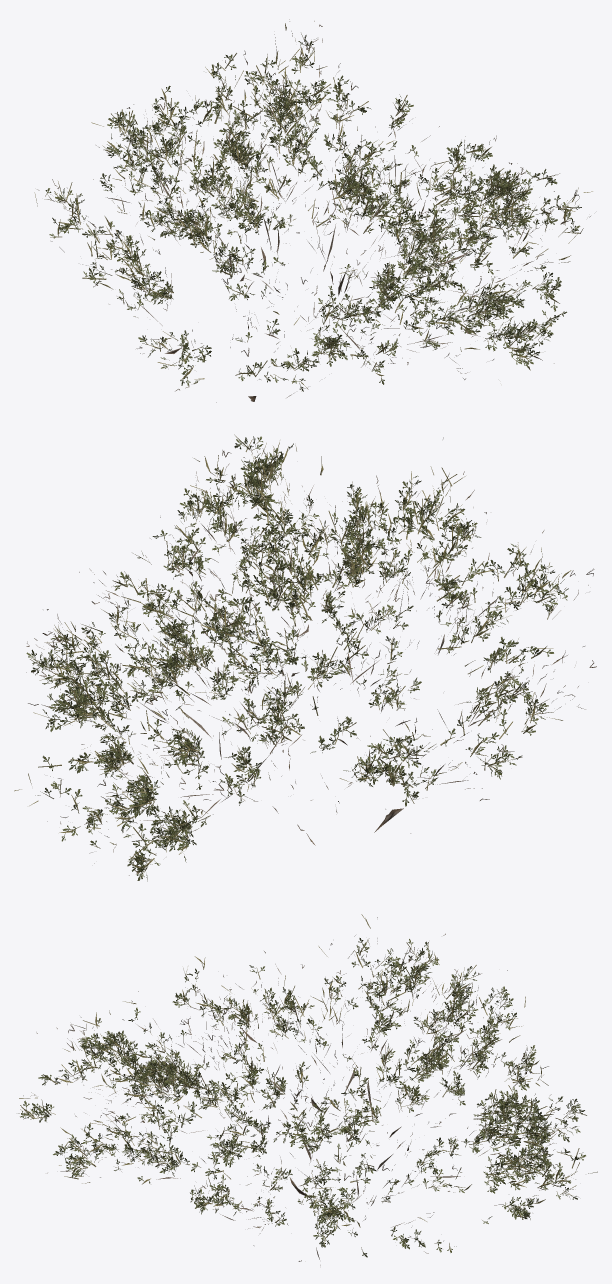
File: tree_searsia_burchellii_mature.glb
3 views of the same model, one above another, from view 1: azimuth 30°, elevation 25°; view 2: azimuth 150°, elevation 25°; view 3: azimuth 270°, elevation 25° (orthographic). The views are drawn at different scales.
Parts seen in each view (by area): view 1: tree_searsia_burchellii_mature; view 2: tree_searsia_burchellii_mature; view 3: tree_searsia_burchellii_mature.
Part boxes in pixels (bbox=[...]): tree_searsia_burchellii_mature: bbox=[34, 19, 592, 402]; tree_searsia_burchellii_mature: bbox=[14, 434, 596, 881]; tree_searsia_burchellii_mature: bbox=[18, 914, 597, 1265].
Size of what is drawn, in the model's own units: 16.07 by 12 by 19.43.
Materials: 3 (3 with a texture image).
